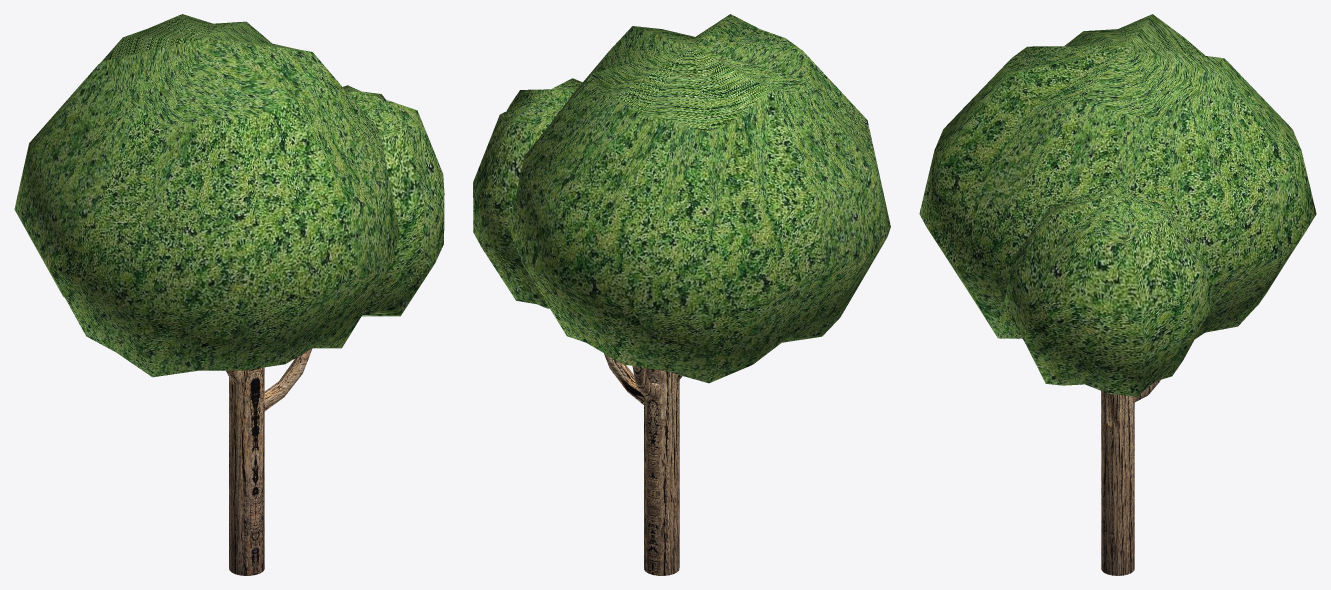
File: дерево_2.fbx
The picture shows the model from 3 angles, left to right: view 1: azimuth 30°, elevation 25°; view 2: azimuth 150°, elevation 25°; view 3: azimuth 270°, elevation 25°; orthographic projection. The views are drawn at different scales.
Parts seen in each view (by area): view 1: pSphere1, pSphere2, pCylinder1; view 2: pSphere1, pSphere2, pCylinder1; view 3: pSphere1, pSphere2, pCylinder1.
Boxes of the visible parts, <box> form: pSphere1: <box>14,14,399,377</box>; pSphere2: <box>343,85,444,316</box>; pCylinder1: <box>226,348,312,575</box>; pSphere1: <box>508,14,890,383</box>; pSphere2: <box>473,78,582,308</box>; pCylinder1: <box>604,353,682,575</box>; pSphere1: <box>919,14,1316,338</box>; pSphere2: <box>1004,182,1213,396</box>; pCylinder1: <box>1101,380,1160,575</box>.
Bounding box in the file's own units: 17.8 × 23.94 × 17.02.
